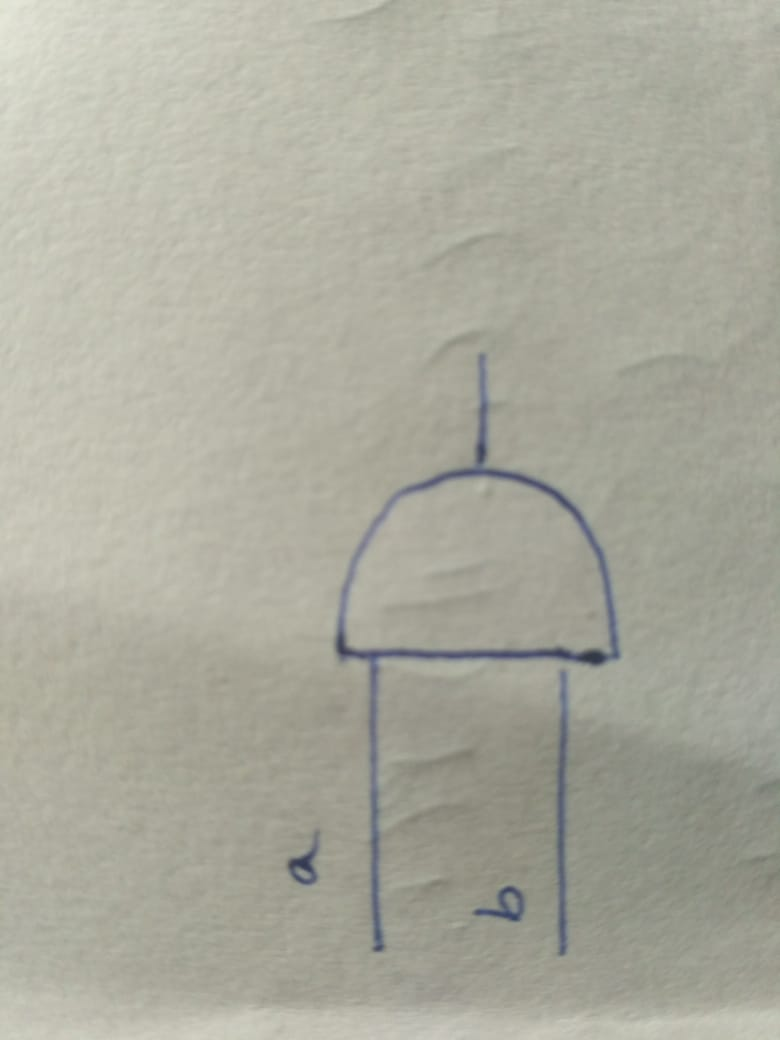and: (253, 378, 708, 734)
